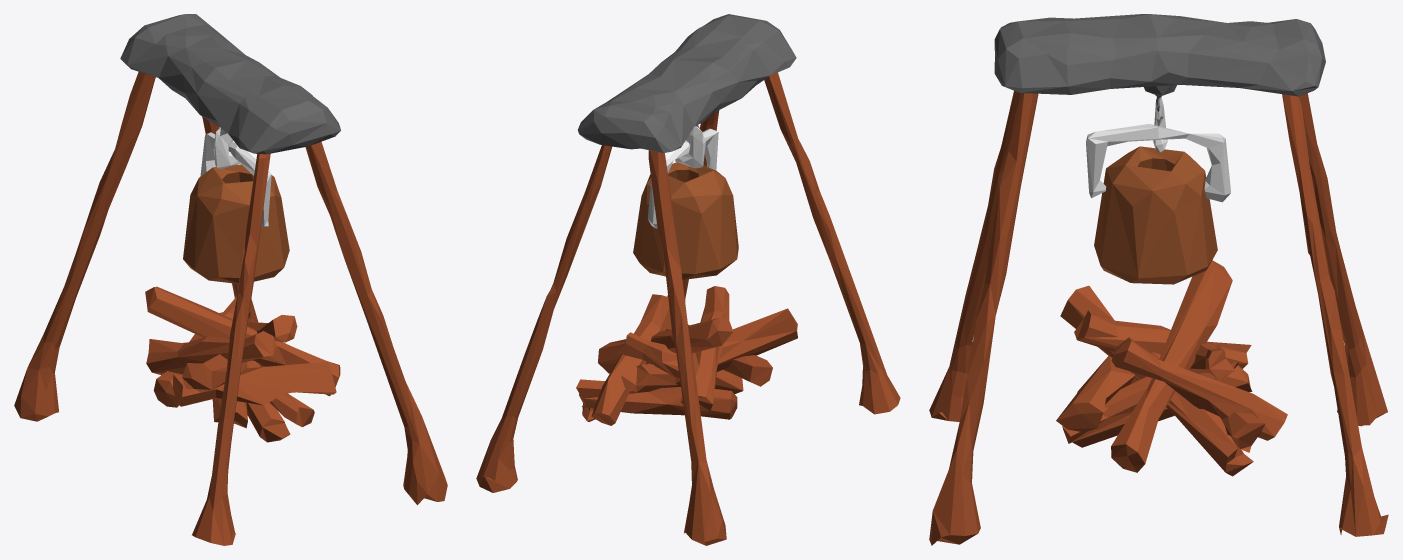
File: WaterDistiller_Machine.fbx
3 renders of one model, left to right at view 1: azimuth 30°, elevation 25°; view 2: azimuth 150°, elevation 25°; view 3: azimuth 270°, elevation 25°, orthographic. The views are drawn at different scales.
Visible parts, largest first — view 1: Cube; view 2: Cube; view 3: Cube.
Part boxes in pixels (left/top/right/bottom): Cube: left=14, top=14, right=447, bottom=545; Cube: left=476, top=14, right=900, bottom=545; Cube: left=929, top=14, right=1388, bottom=545.
Size of the model in its own units: 618 by 950 by 859.
